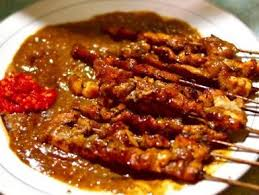sate: (5, 8, 258, 186)
